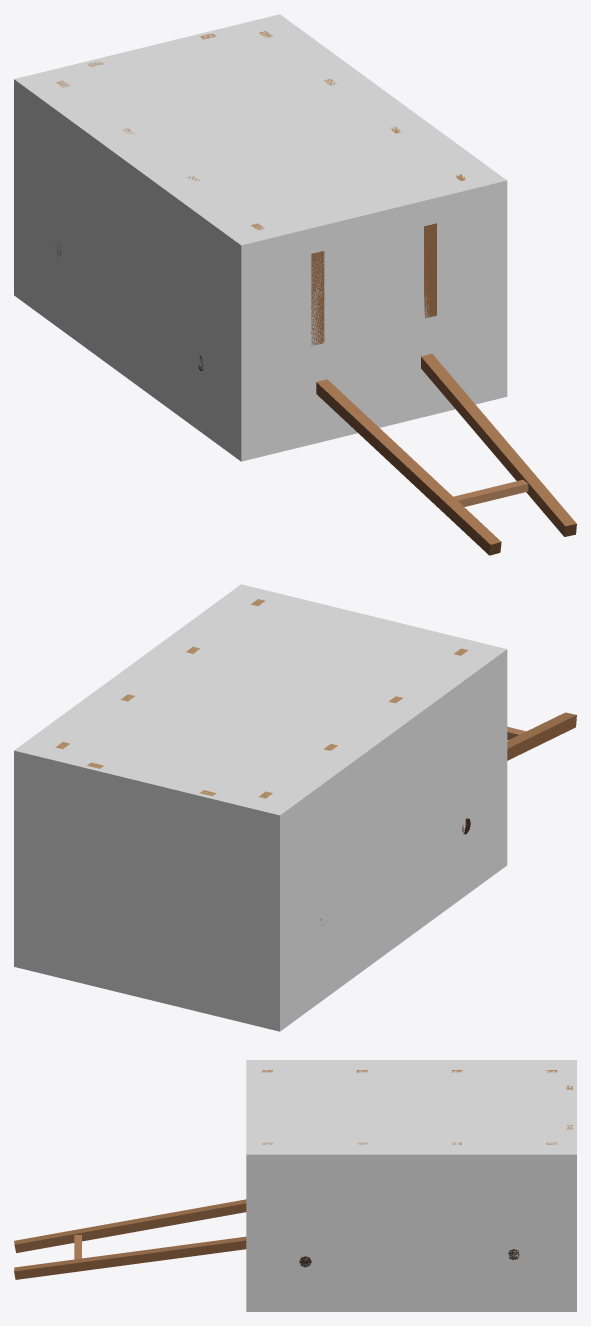
File: FMS_Wagon.fbx
The picture shows the model from 3 angles, top to bottom: view 1: azimuth 30°, elevation 25°; view 2: azimuth 150°, elevation 25°; view 3: azimuth 270°, elevation 25°; orthographic projection. The views are drawn at different scales.
Visible parts, largest first — view 1: FMS_Wagon_Col, FMS_Wagon_LOD0; view 2: FMS_Wagon_Col, FMS_Wagon_LOD0; view 3: FMS_Wagon_Col, FMS_Wagon_LOD0.
Boxes of the visible parts, box(x1,y1,x2,y2) form: FMS_Wagon_Col: box(14, 14, 507, 461); FMS_Wagon_LOD0: box(56, 31, 576, 555); FMS_Wagon_Col: box(14, 584, 507, 1031); FMS_Wagon_LOD0: box(55, 599, 576, 798); FMS_Wagon_Col: box(246, 1060, 576, 1311); FMS_Wagon_LOD0: box(14, 1070, 572, 1279).
Size of what is drawn, in the model's own units: 1.42 by 1.1 by 3.57.
Materials: 1 (1 with a texture image).
